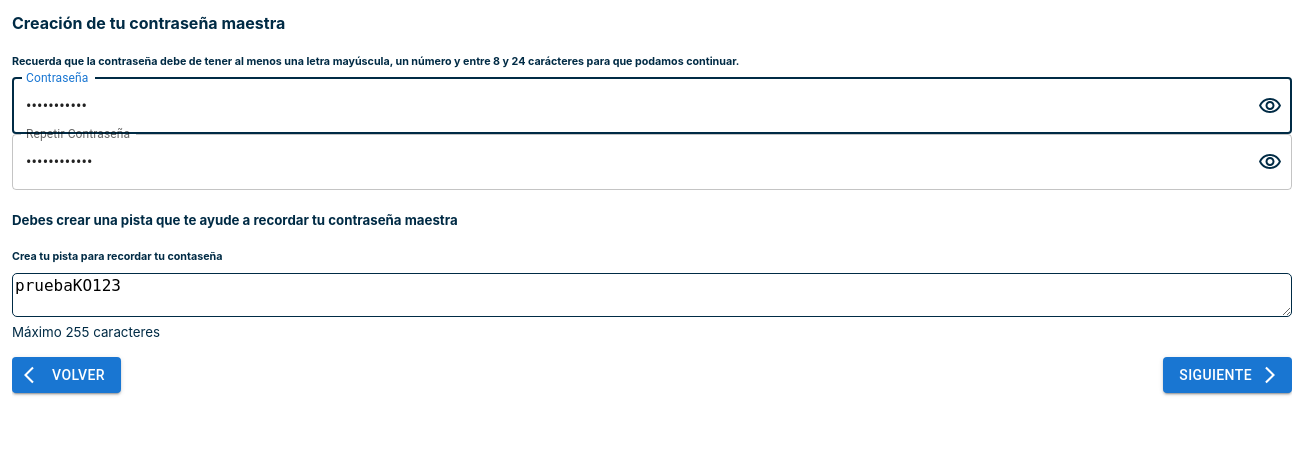
Test: render form component › delete a character on input value hide the error message pass are not equals
Expected: the text "Las contraseñas deben de ser iguales" is not shown
Type "pruebaKO456" into the password field labelled "Repetir Contraseña" at (627, 162), box [12,134,1242,190]
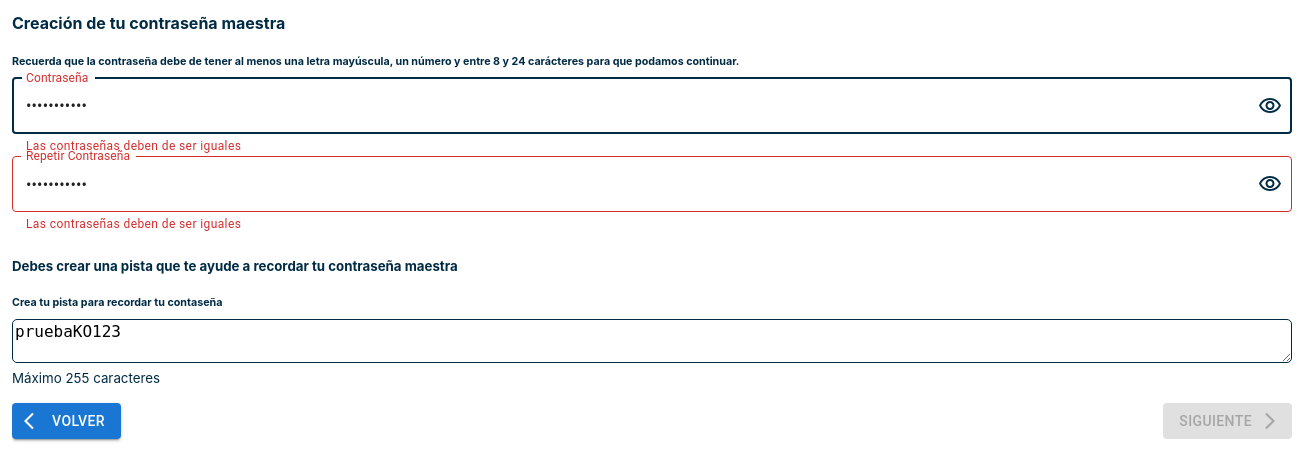
// delete a value
Type "pruebaKO45" into the password field labelled "Repetir Contraseña" at (627, 184), box [12,156,1242,212]
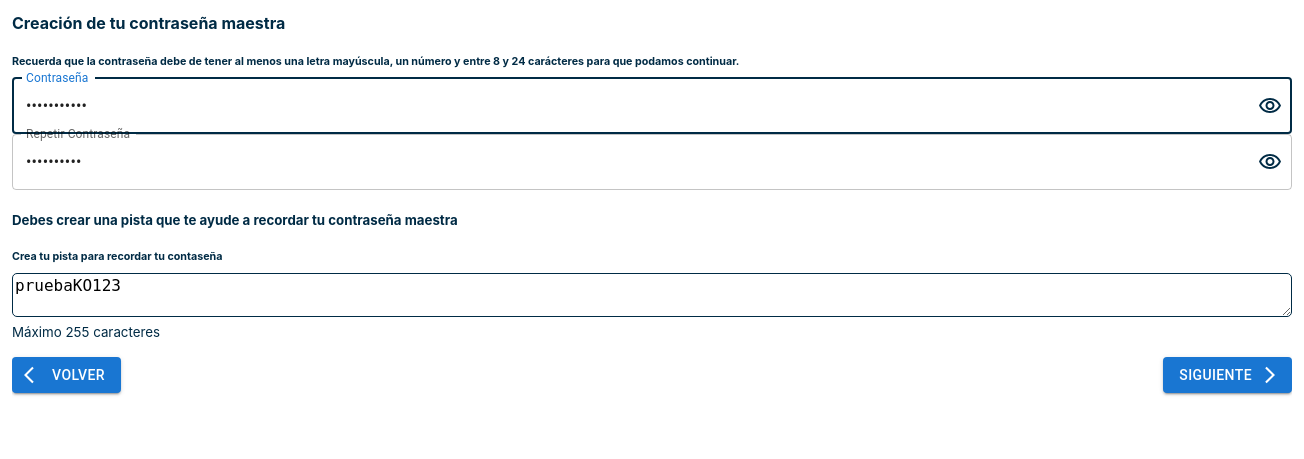
Now the text "Las contraseñas deben de ser iguales" is gone
